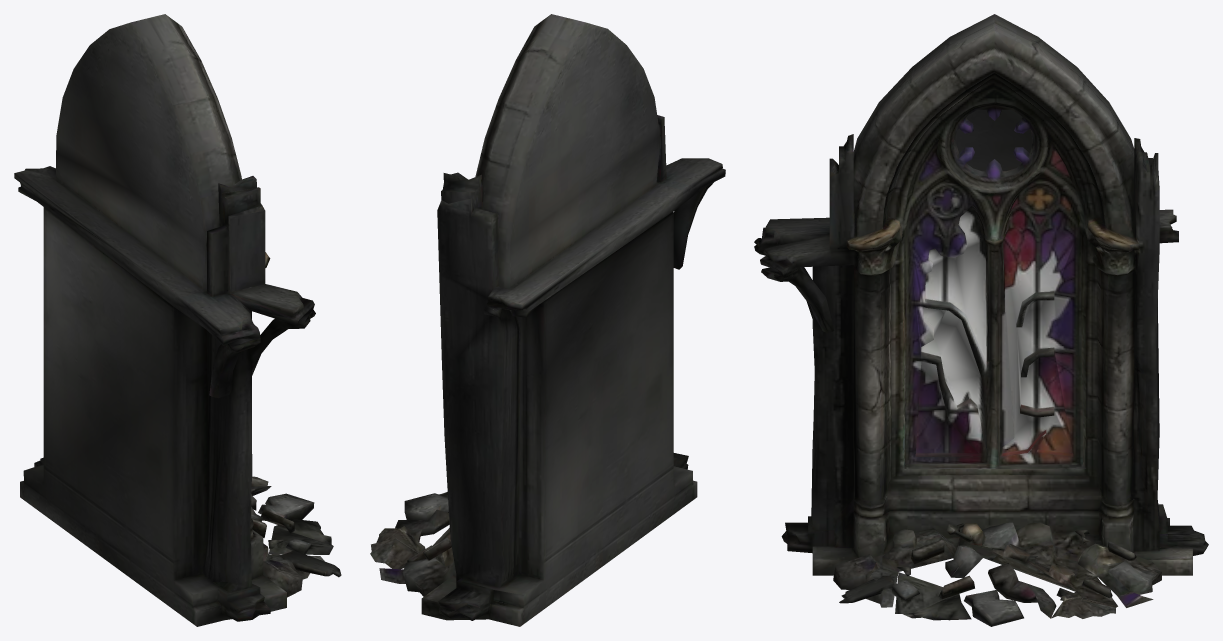
Rendered from stained_glass.glb.
The picture shows the model from 3 angles, left to right: view 1: azimuth 30°, elevation 25°; view 2: azimuth 150°, elevation 25°; view 3: azimuth 270°, elevation 25°; orthographic projection.
Parts seen in each view (by area): view 1: tripo_node_3f709b18-c22e-4d9a-a3f5-18bc1d23b69b; view 2: tripo_node_3f709b18-c22e-4d9a-a3f5-18bc1d23b69b; view 3: tripo_node_3f709b18-c22e-4d9a-a3f5-18bc1d23b69b.
Part boxes in pixels (<box>): tripo_node_3f709b18-c22e-4d9a-a3f5-18bc1d23b69b: <box>14,14,341,626</box>; tripo_node_3f709b18-c22e-4d9a-a3f5-18bc1d23b69b: <box>370,14,725,626</box>; tripo_node_3f709b18-c22e-4d9a-a3f5-18bc1d23b69b: <box>754,14,1208,626</box>.
Bounding box in the file's own units: 0.4082 × 0.998 × 0.7755.
1 material, 1 textured.
